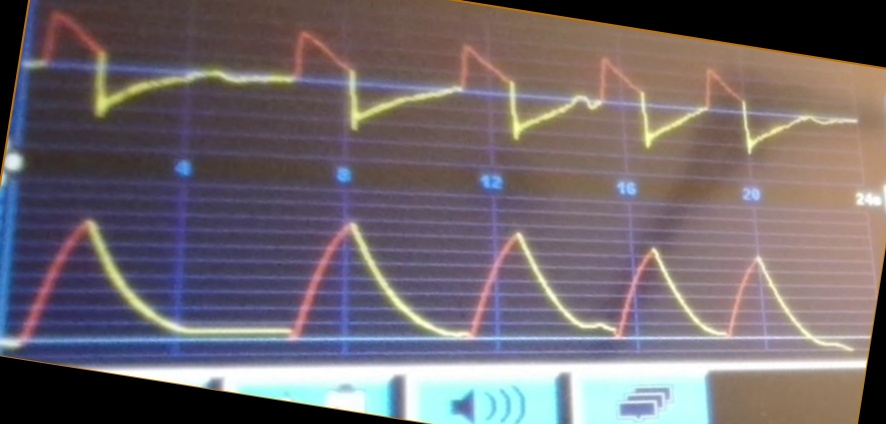Ineffective_effort Flow: (33, 11, 857, 153)
Ineffective_effort Volume: (11, 212, 852, 353)
